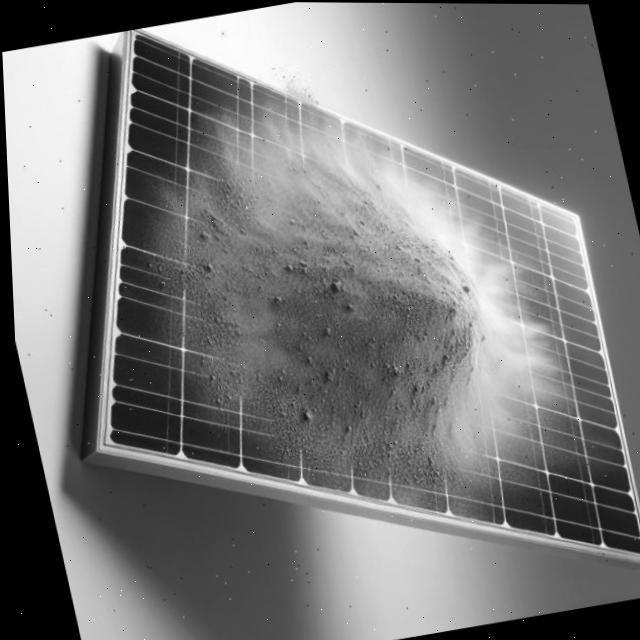Anomaly Solar Panel: (96, 29, 640, 556)
Surface Contaminant: (76, 24, 620, 602)
